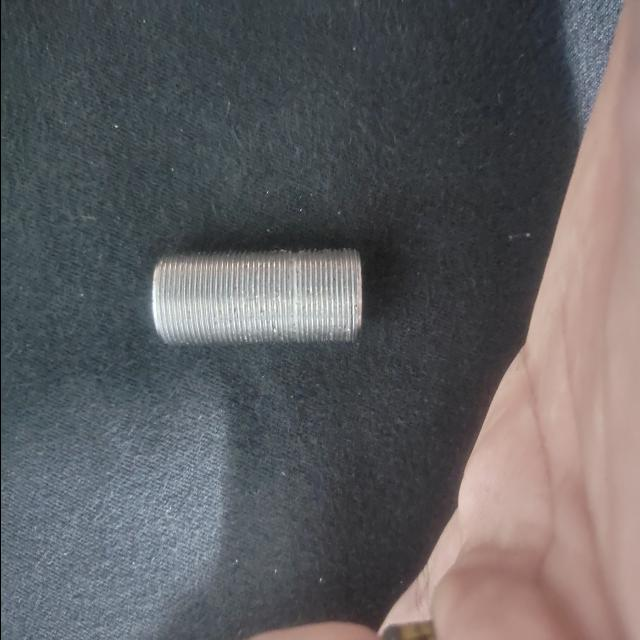Broken: (147, 245, 364, 349)
